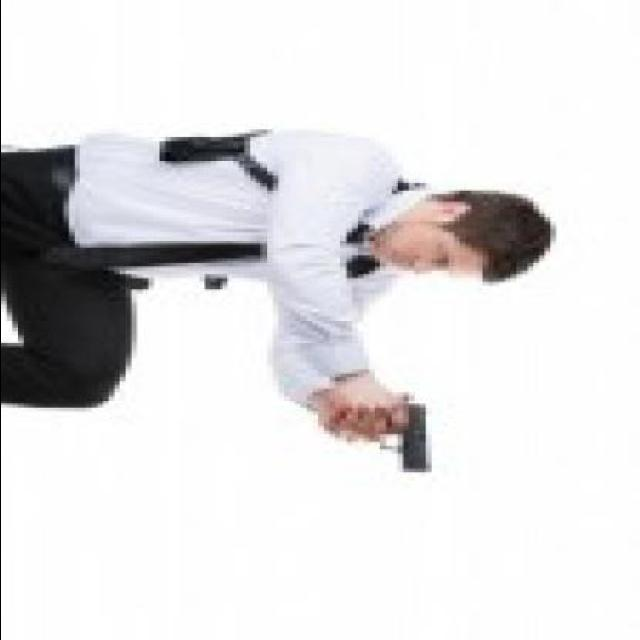pistol: (329, 386, 443, 474)
